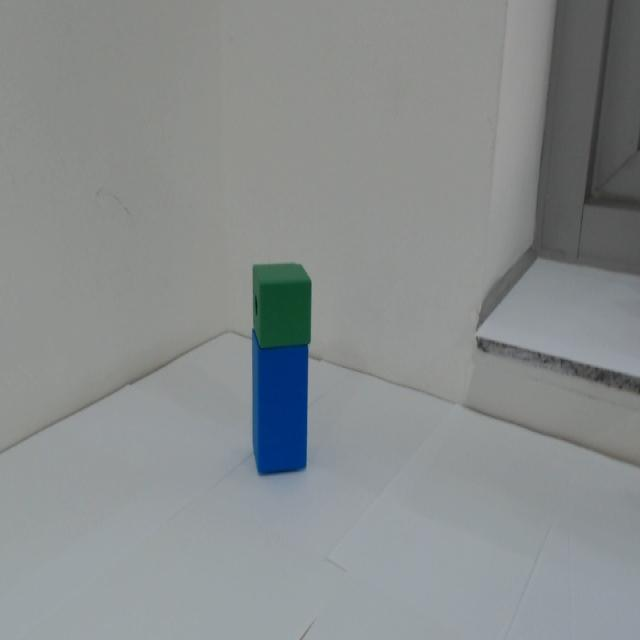cube: (248, 261, 324, 357)
